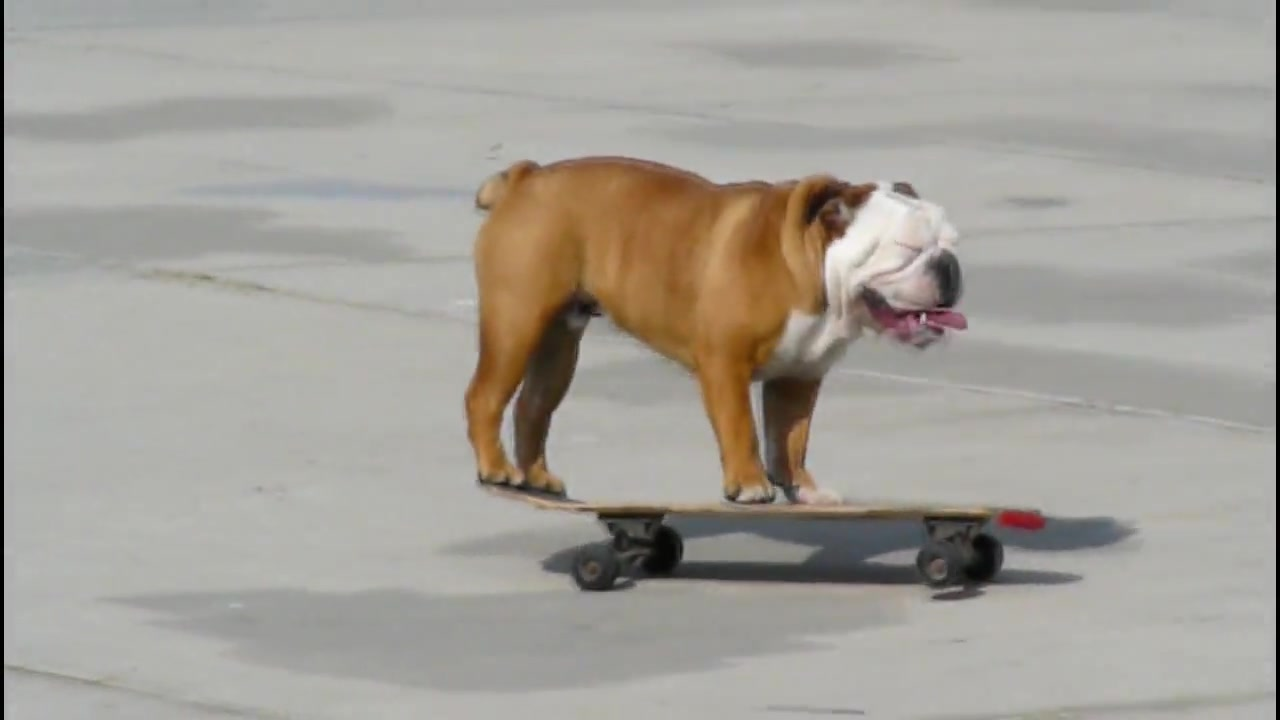dog: (463, 155, 970, 510)
